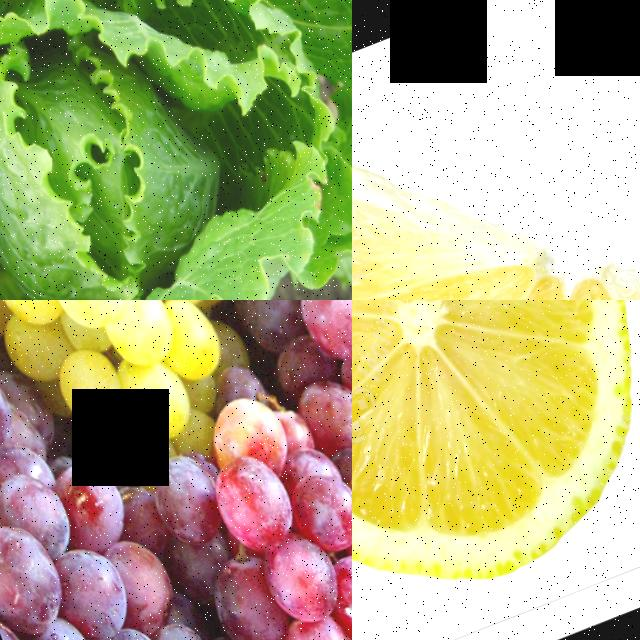grapes: (0, 348, 252, 640), (142, 370, 352, 640), (0, 300, 292, 493), (179, 300, 352, 577)
lemon: (352, 300, 640, 640), (352, 0, 640, 300)
lettuce: (0, 0, 352, 300)
